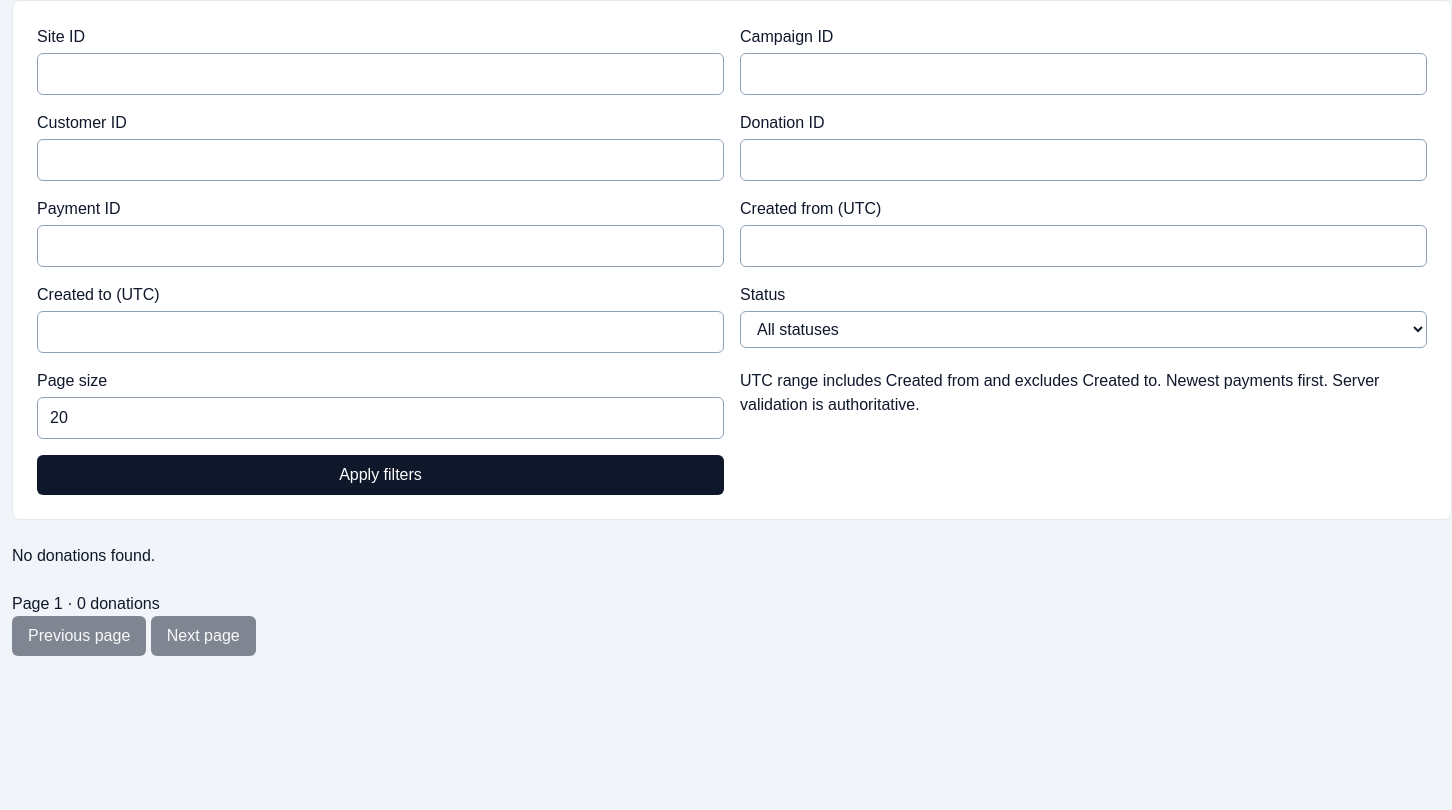
Test: validates form ranges, omits empty filters and restores defaults
Expected: the text "No donations found." is shown, [12,547,155,564]
In the field labelled "Created from (UTC)": (1084, 246) [740,225,1427,267], type "2026-12-01T00:00:00Z"
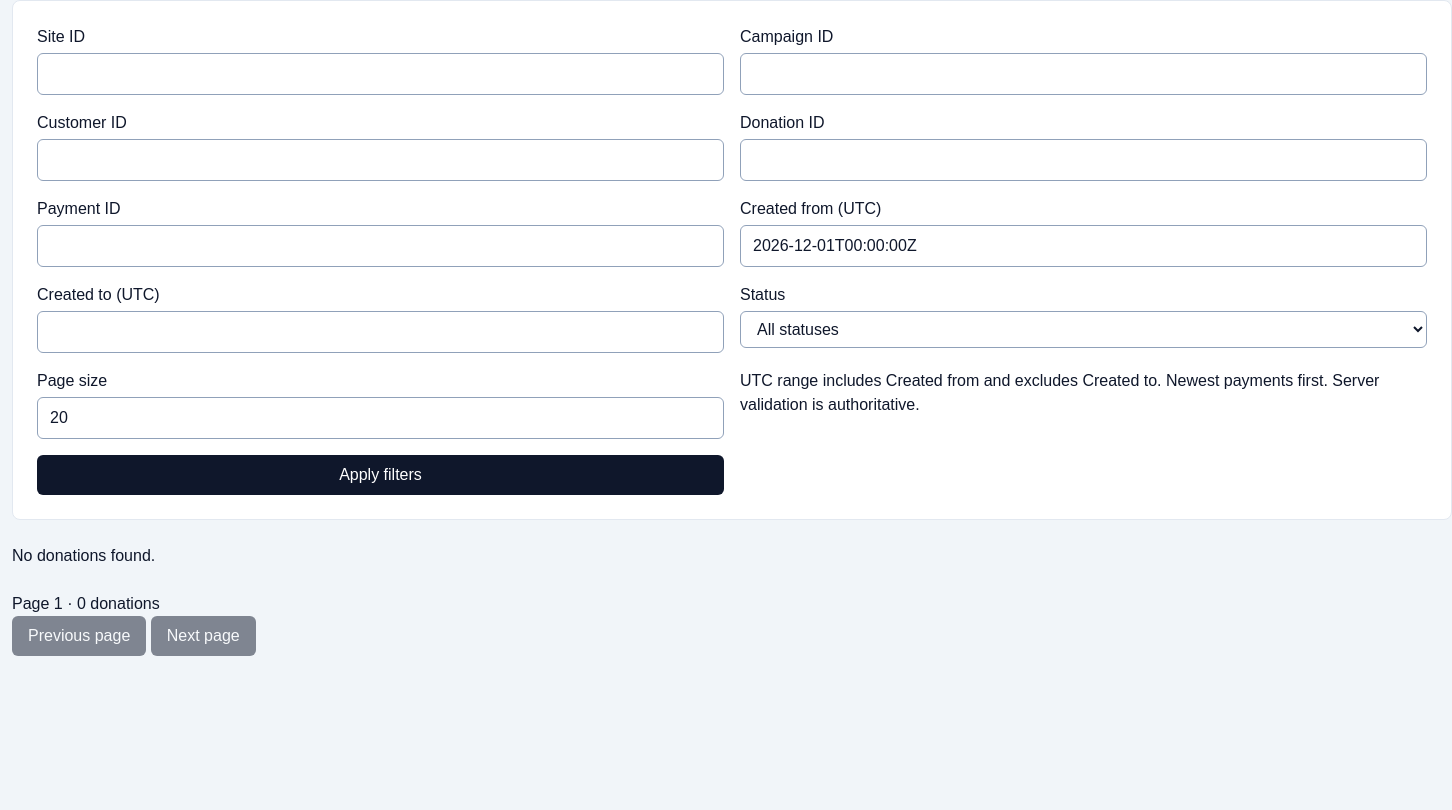
In the field labelled "Created to (UTC)": (380, 332) [37,311,724,353], type "2026-01-01T00:00:00Z"
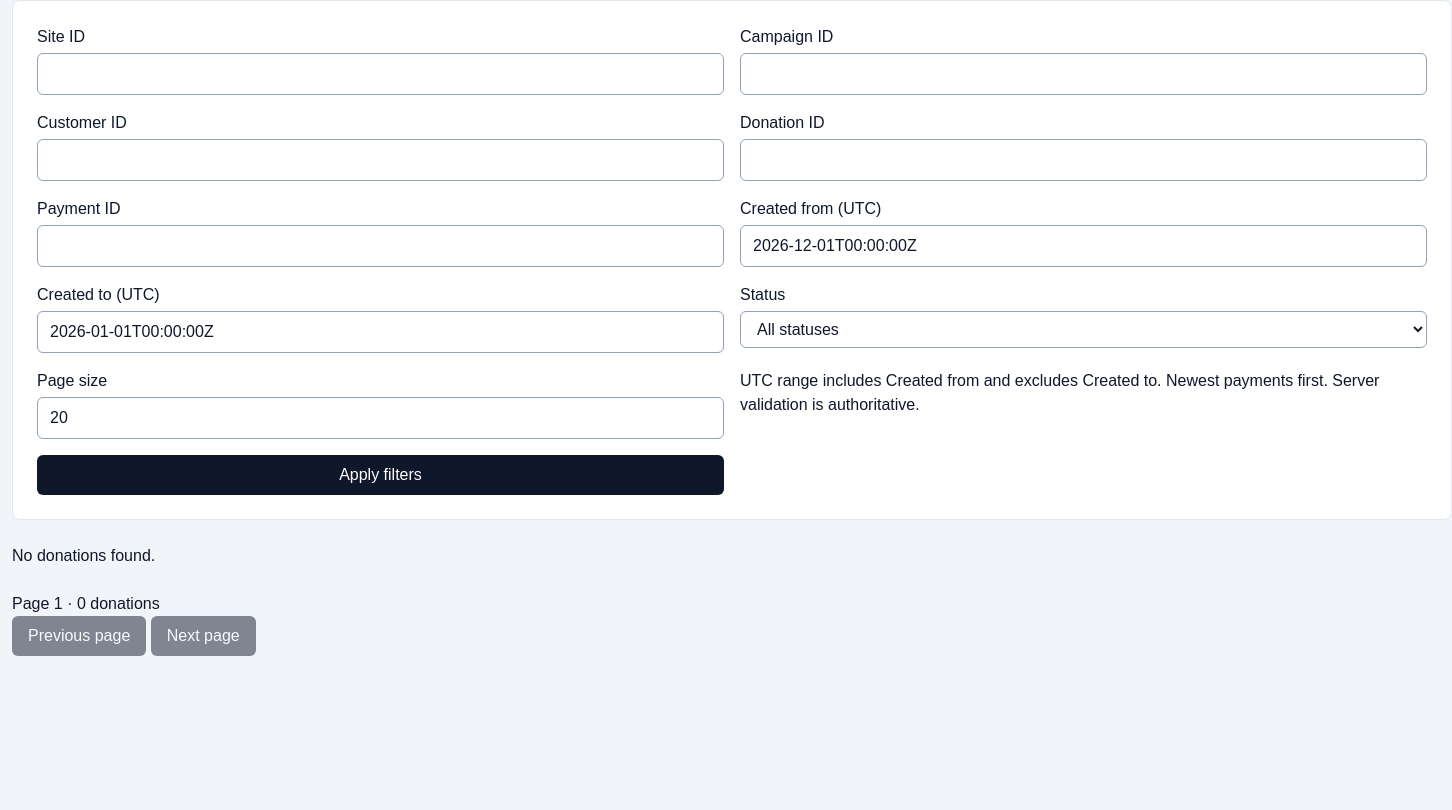
Click the button "Apply filters": (380, 475) [37,455,724,495]
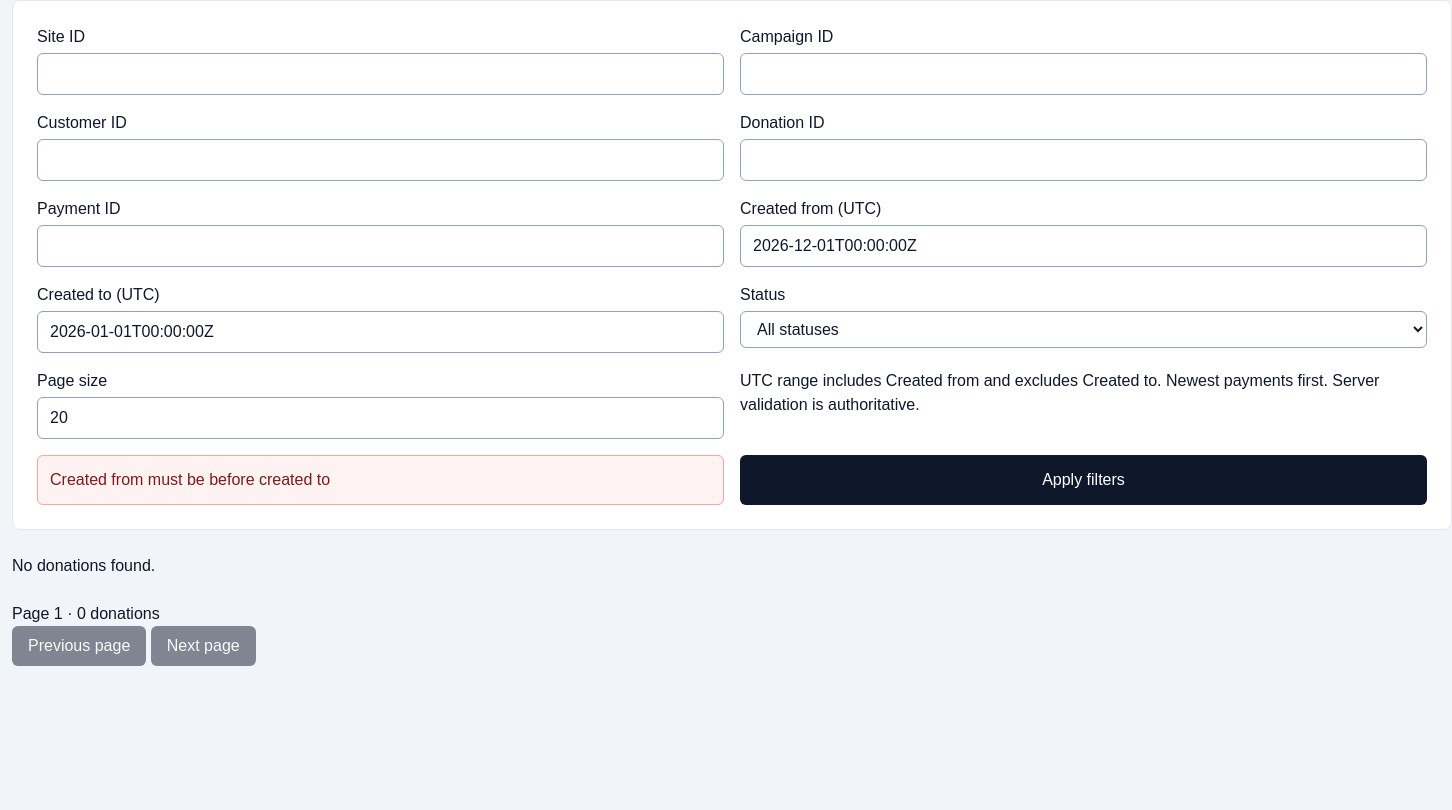
Expected: the message "Created from must be before created to" is shown, [37,455,724,505]
